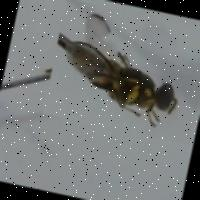Oriental-fruit-fly: (43, 0, 200, 143)
